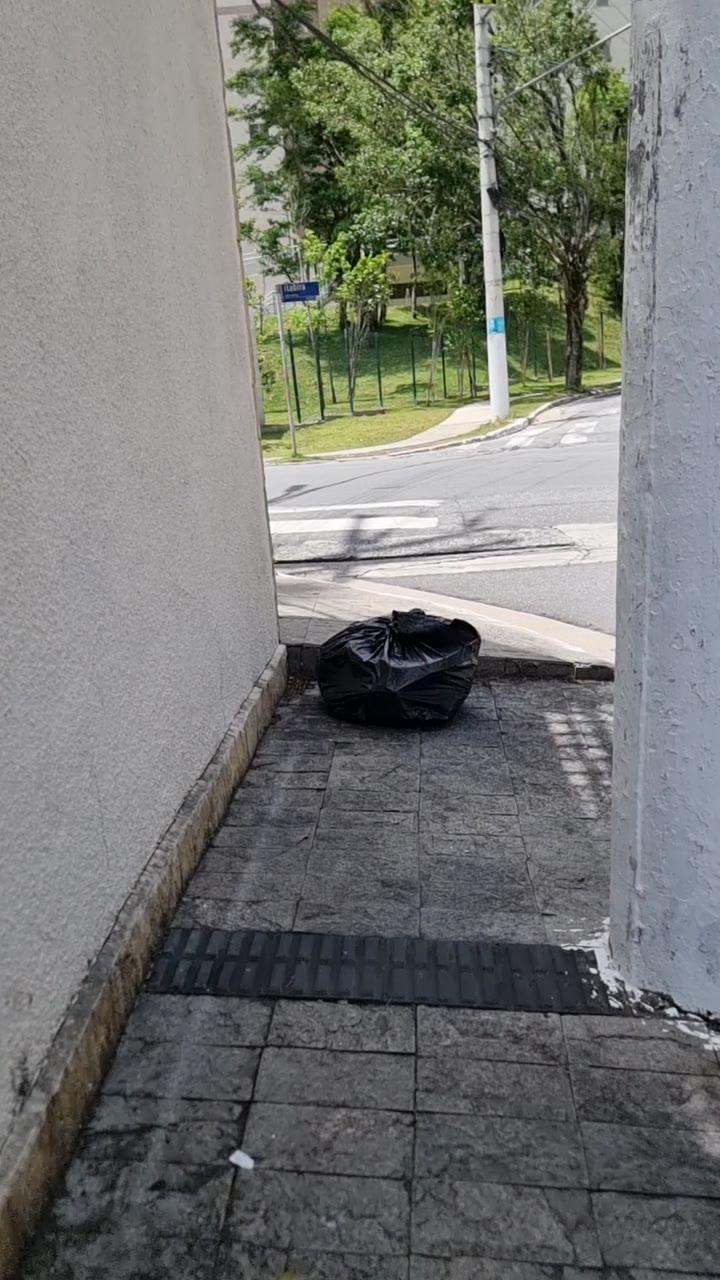obstaculo: (619, 0, 720, 1024), (317, 609, 480, 727), (468, 0, 504, 422)
